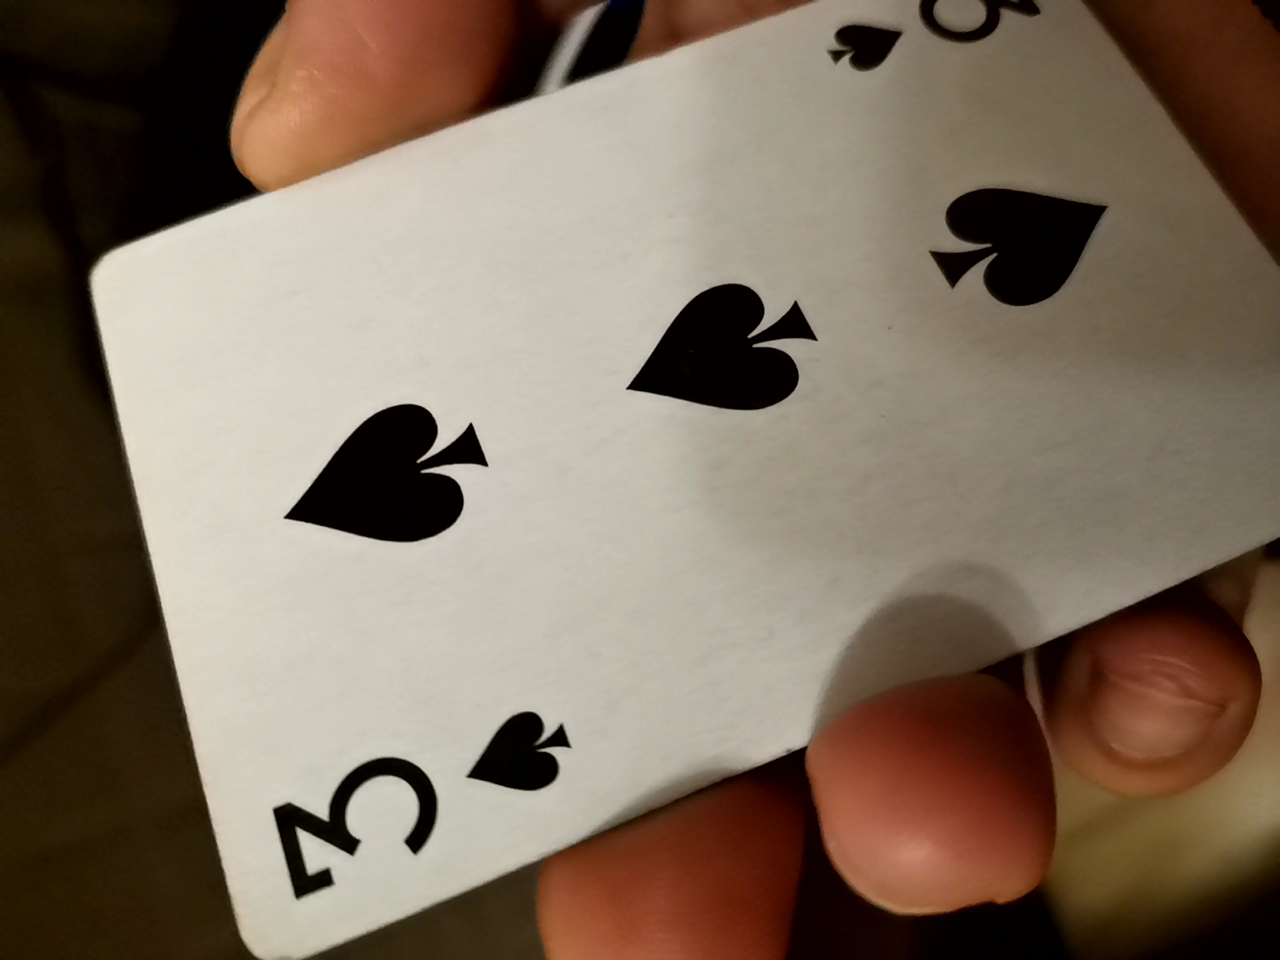ht 3: (81, 7, 1269, 948)
